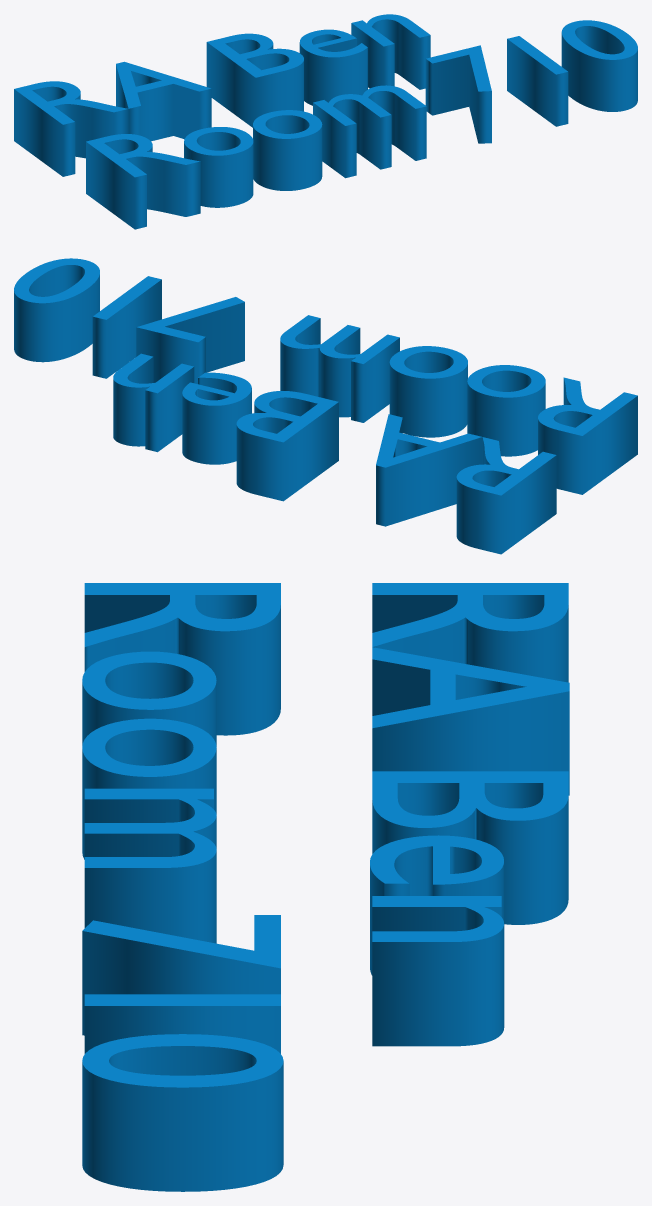
Rendered from ra-ben-710.gltf.
The picture shows the model from 3 angles, top to bottom: view 1: azimuth 30°, elevation 25°; view 2: azimuth 150°, elevation 25°; view 3: azimuth 270°, elevation 25°; orthographic projection. The views are drawn at different scales.
Visible parts, largest first — view 1: Text; view 2: Text; view 3: Text.
Boxes of the visible parts, x1,y1,x2,y2 form: Text: (14, 14, 637, 229); Text: (14, 258, 637, 554); Text: (82, 583, 569, 1191).
Size of the model in its own units: 4.15 by 0.4 by 1.69.
